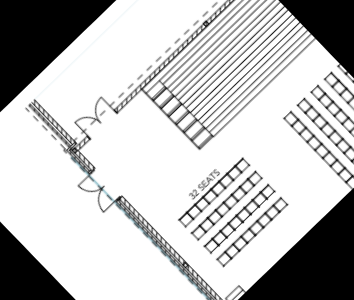double door: (71, 93, 118, 139), (75, 171, 119, 216)
